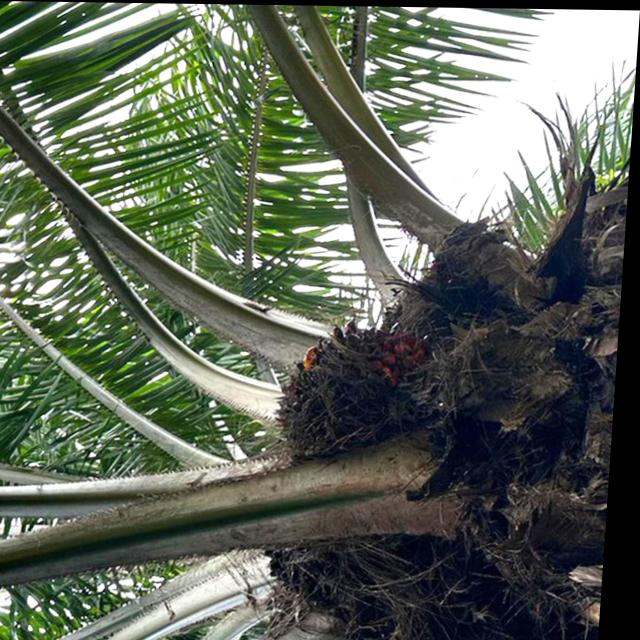ripe: (260, 300, 454, 482)
